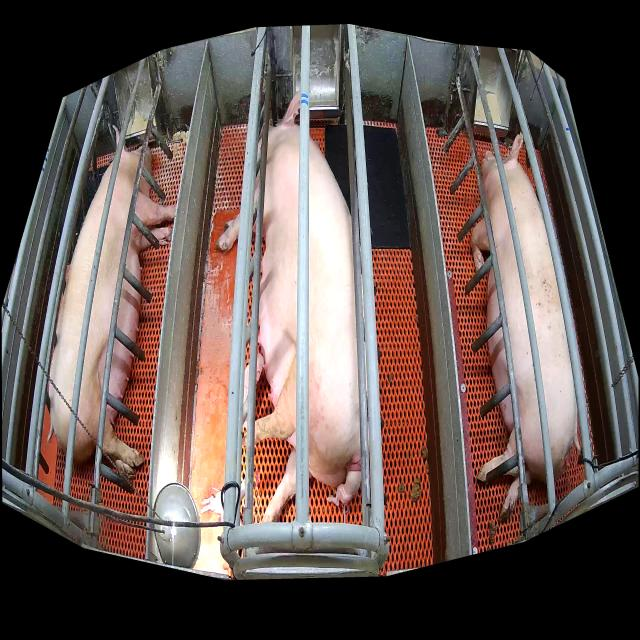pig: (218, 92, 362, 524), (48, 125, 176, 479), (471, 130, 580, 519), (242, 354, 263, 431), (327, 473, 361, 506), (200, 486, 224, 515)
